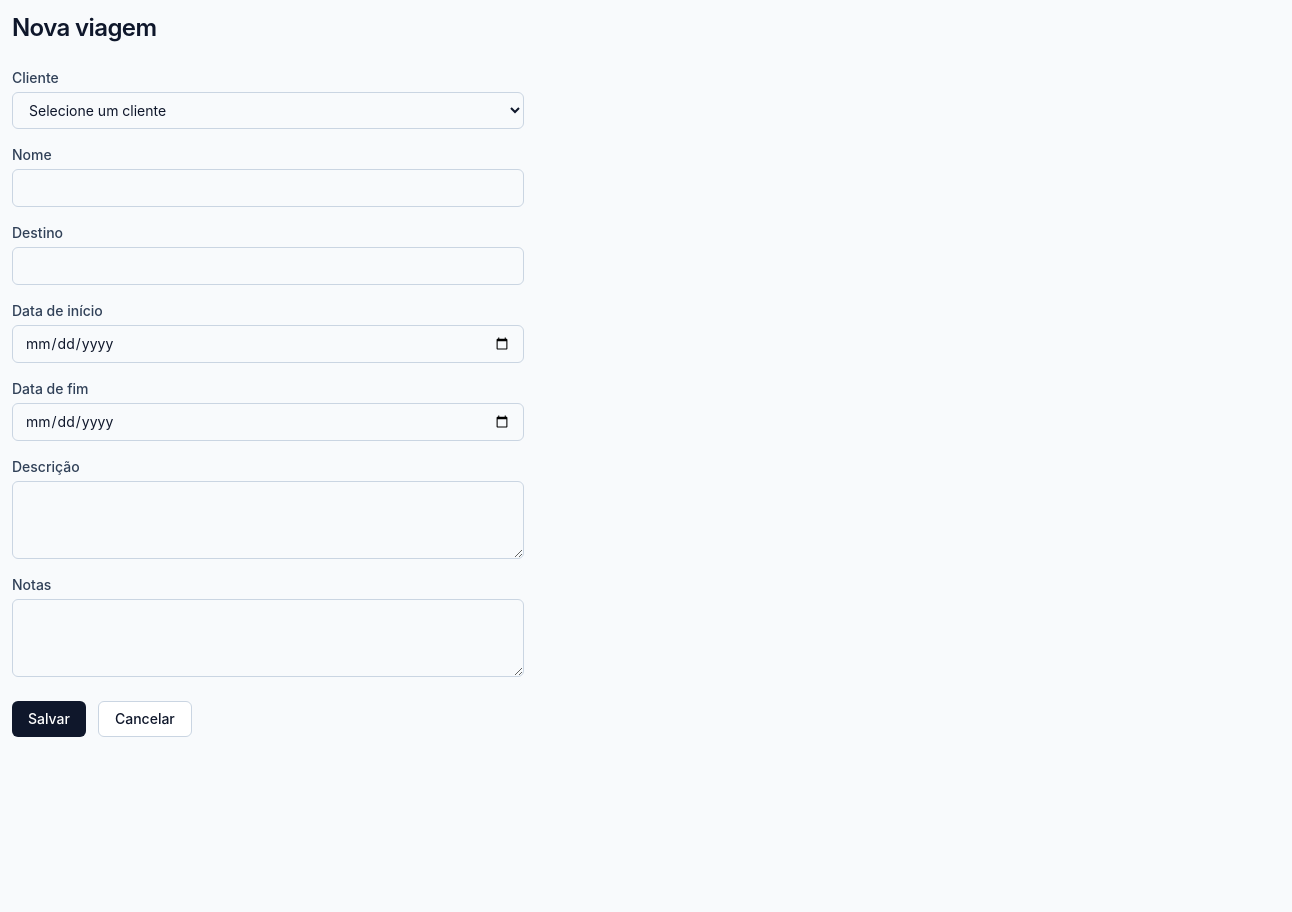
Test: TripFormPage › 400 error displays the backend message
Select "Maria Silva" in the dropdown labelled "Cliente" at point(268, 110), box 12,92 -> 524,129
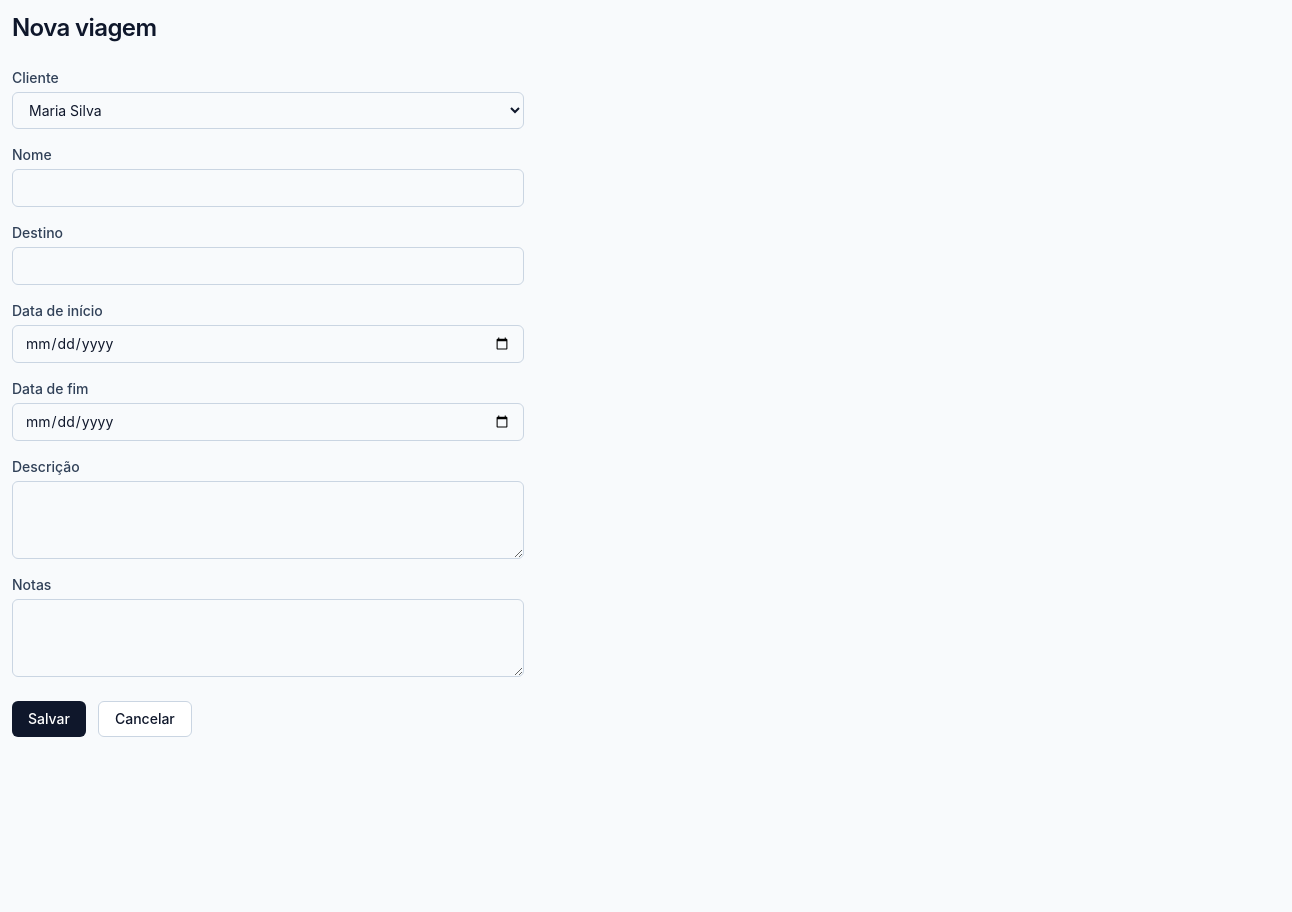
Type "Lua de mel" into the field labelled "Nome" at point(268, 188), box 12,169 -> 524,207
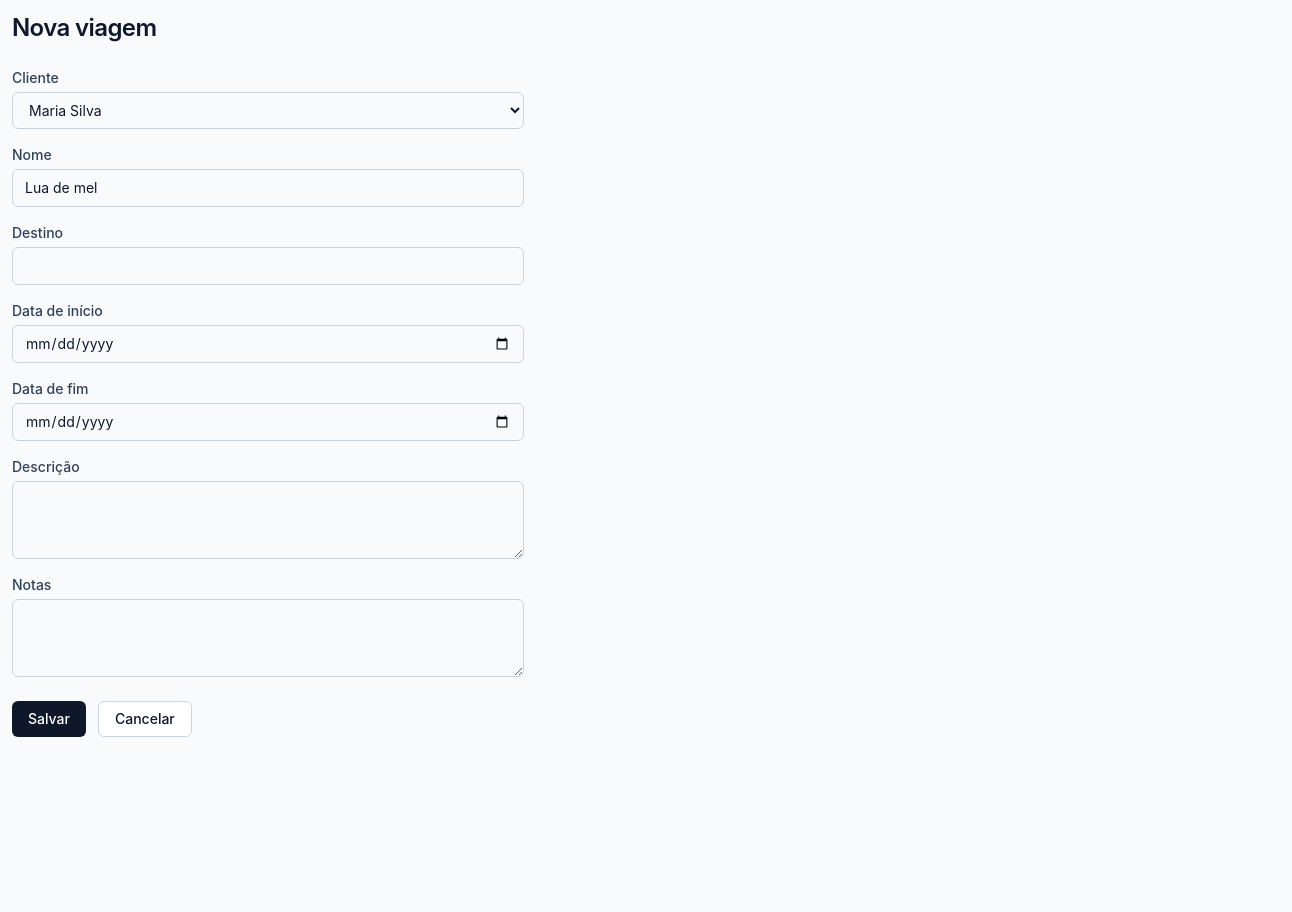
Type "Paris" into the field labelled "Destino" at point(268, 266), box 12,247 -> 524,285
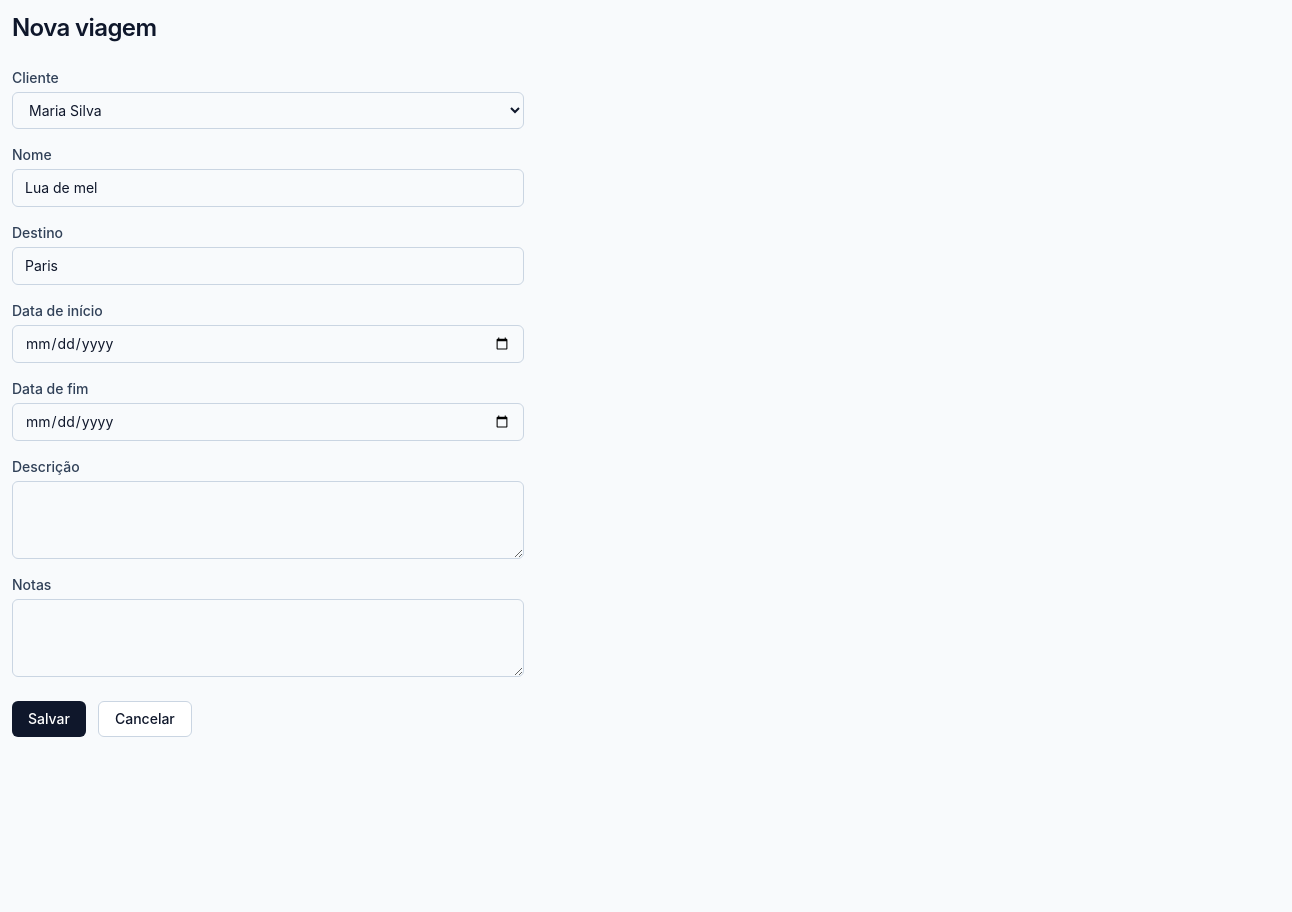
Type "2026-06-01" into the date field labelled "Data de início" at point(268, 344), box 12,325 -> 524,363
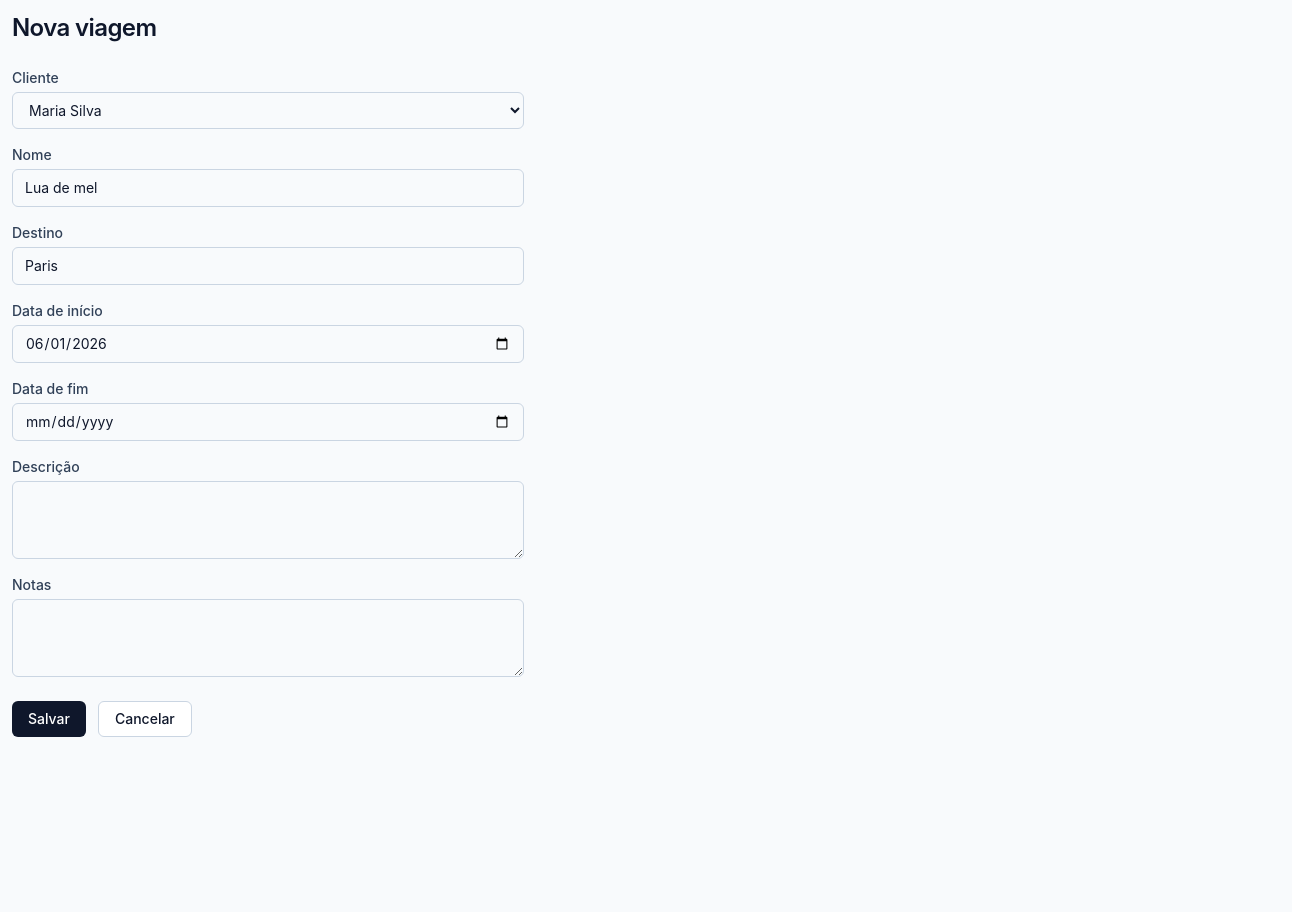
Type "2026-06-10" into the date field labelled "Data de fim" at point(268, 422), box 12,403 -> 524,441
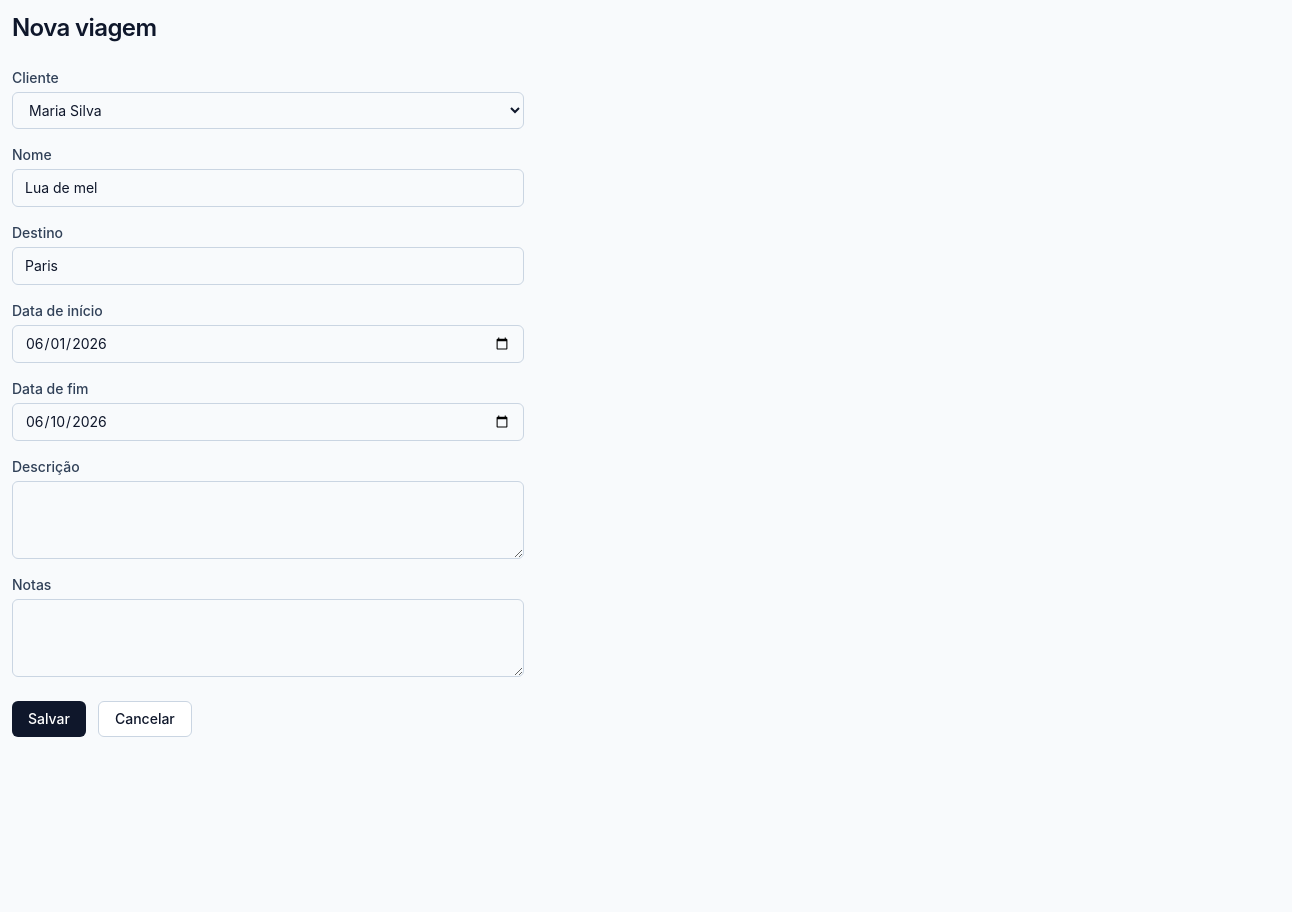
Click the button "Salvar" at point(49, 719), box 12,701 -> 86,737
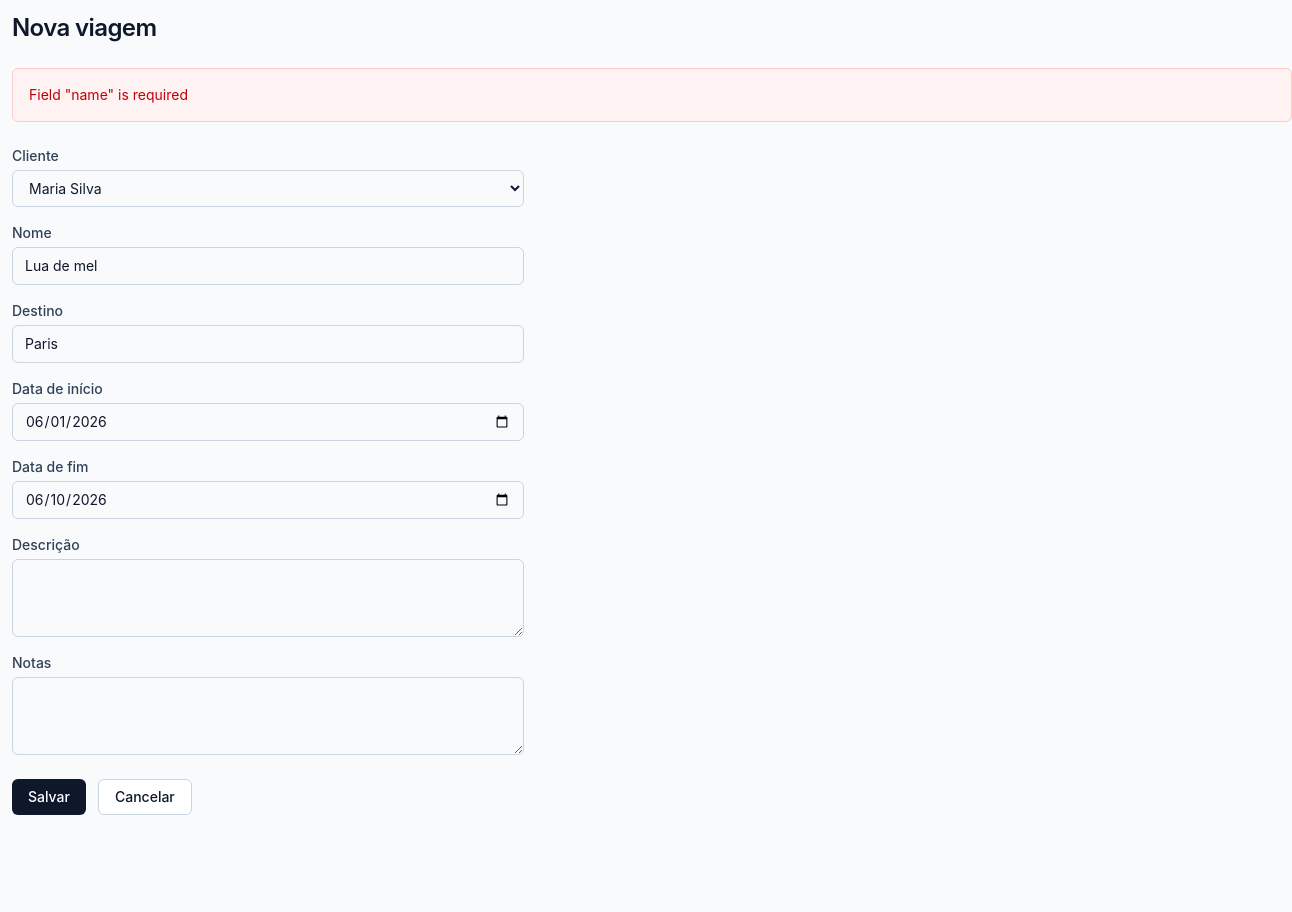
Now the text "Field \"name\" is required" is shown, box 12,68 -> 1291,122
